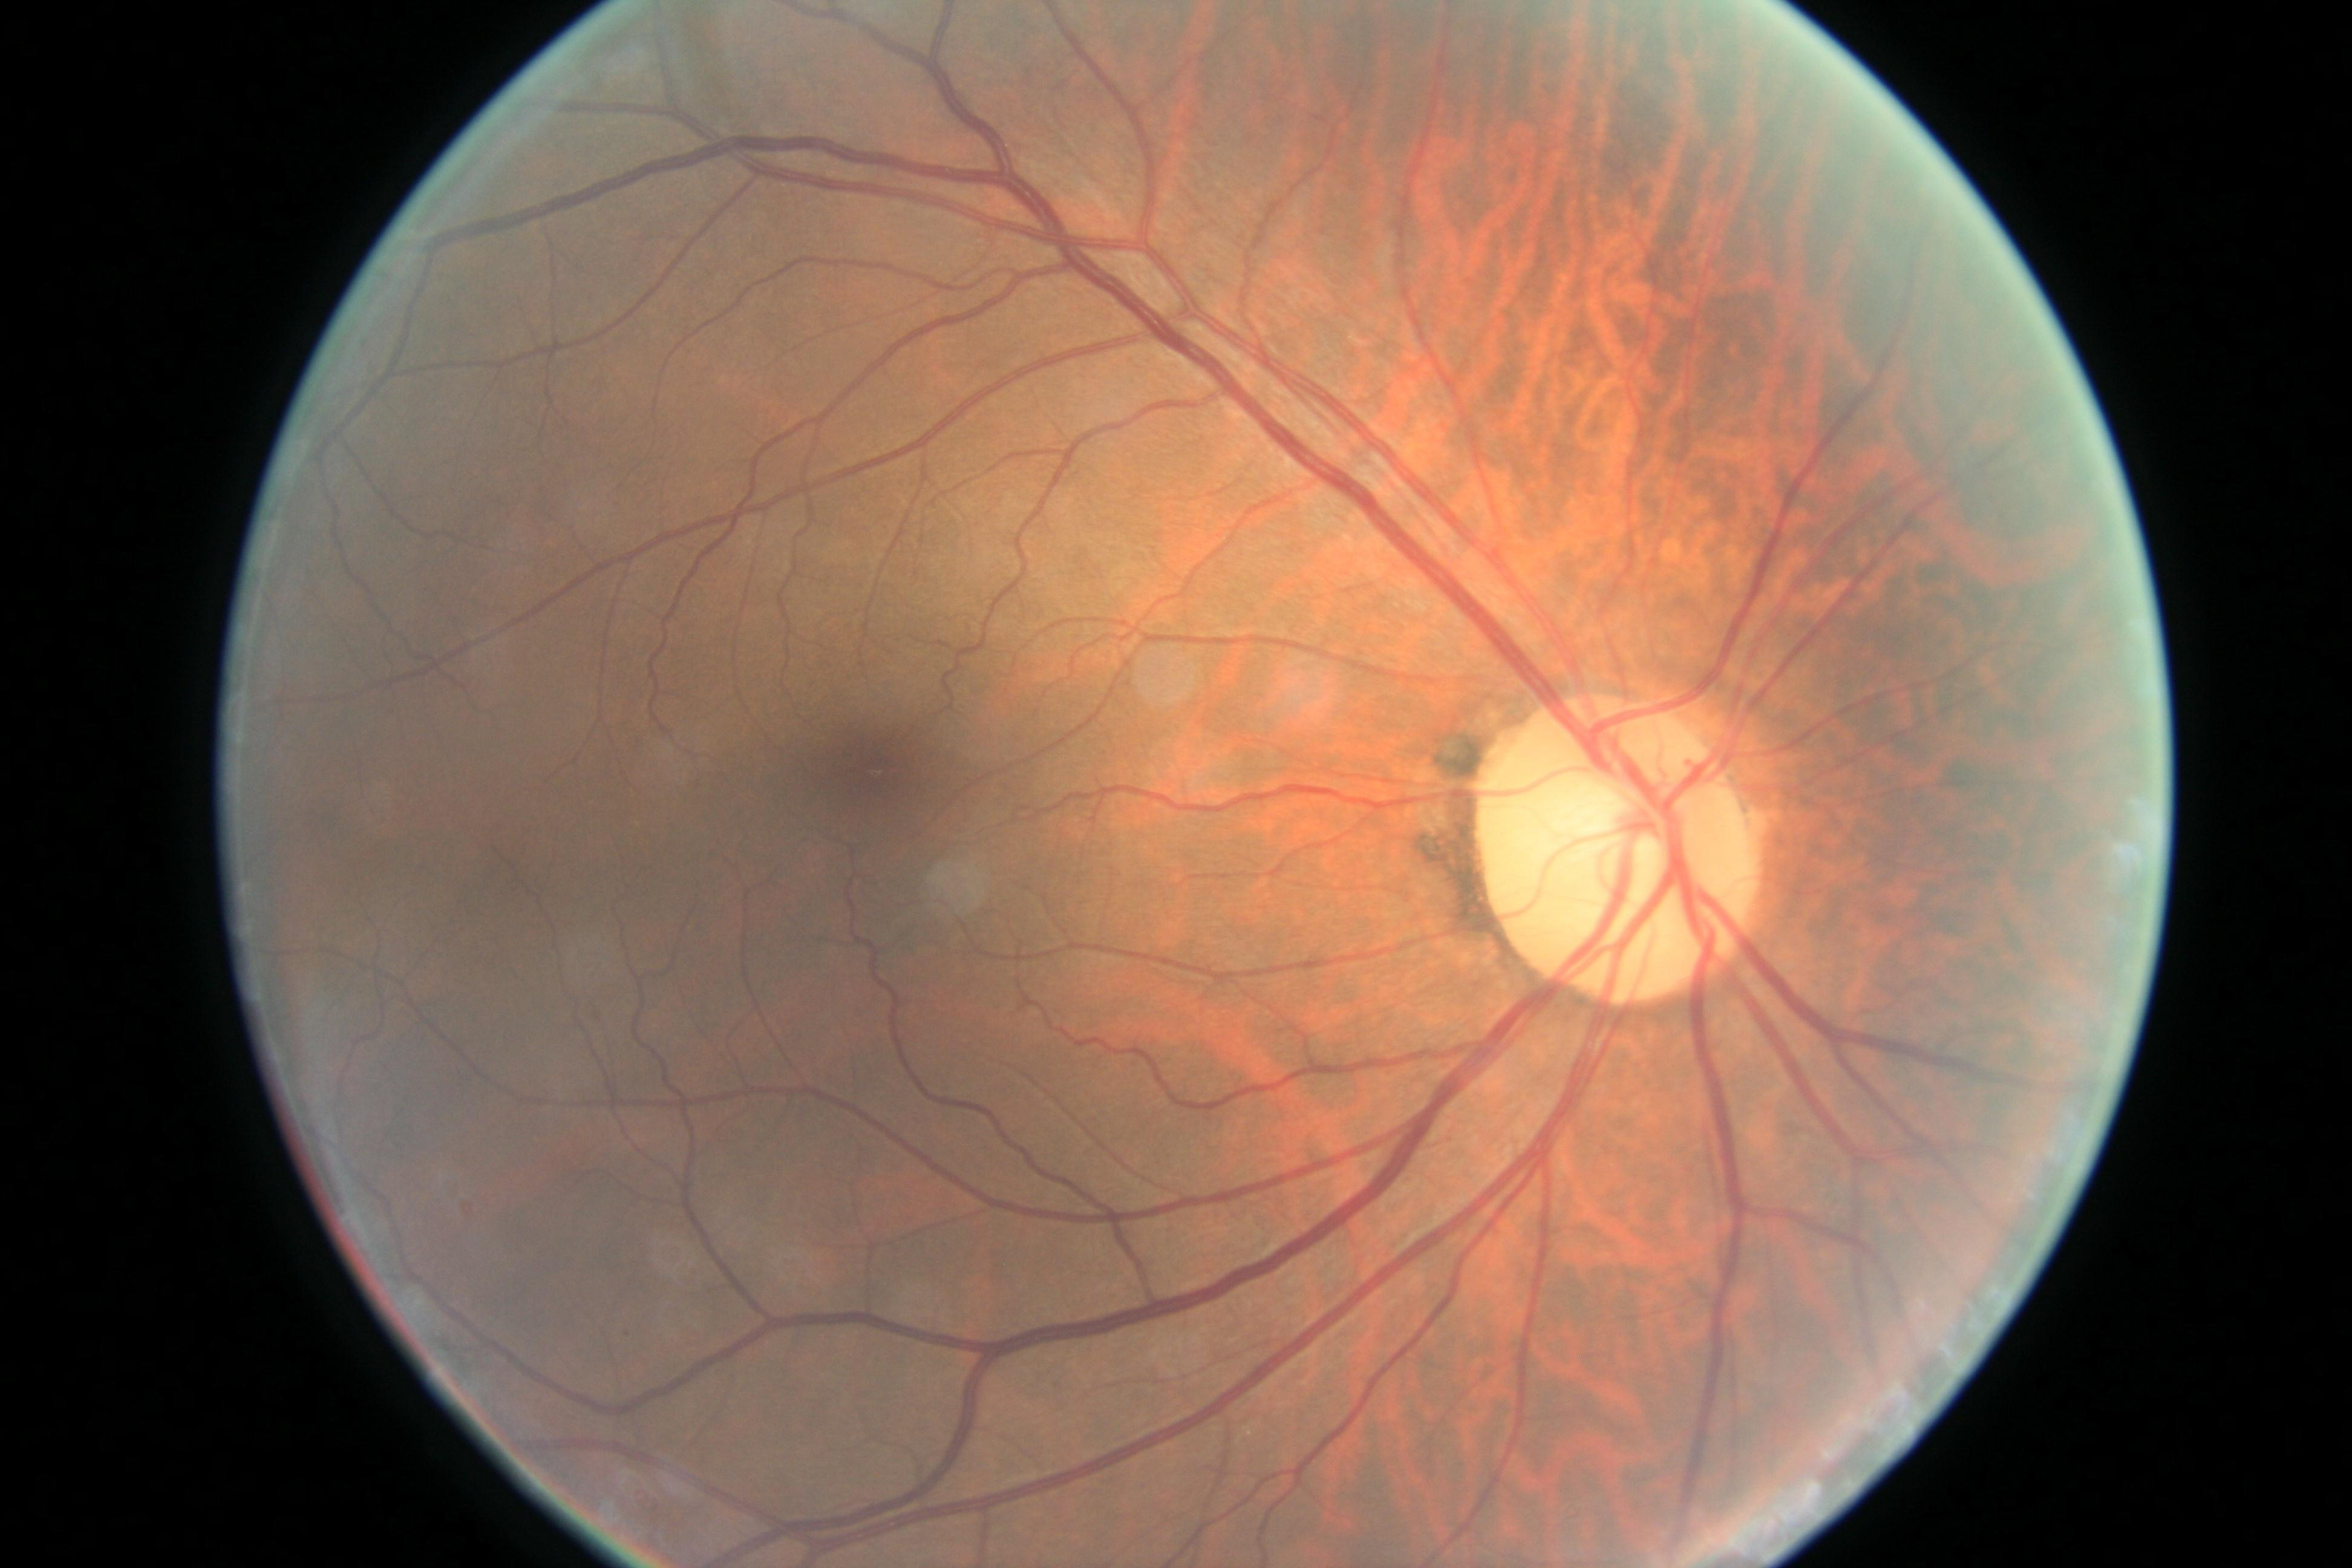Optic-nerve: (684, 688, 1020, 971), (1473, 691, 1764, 1008)
